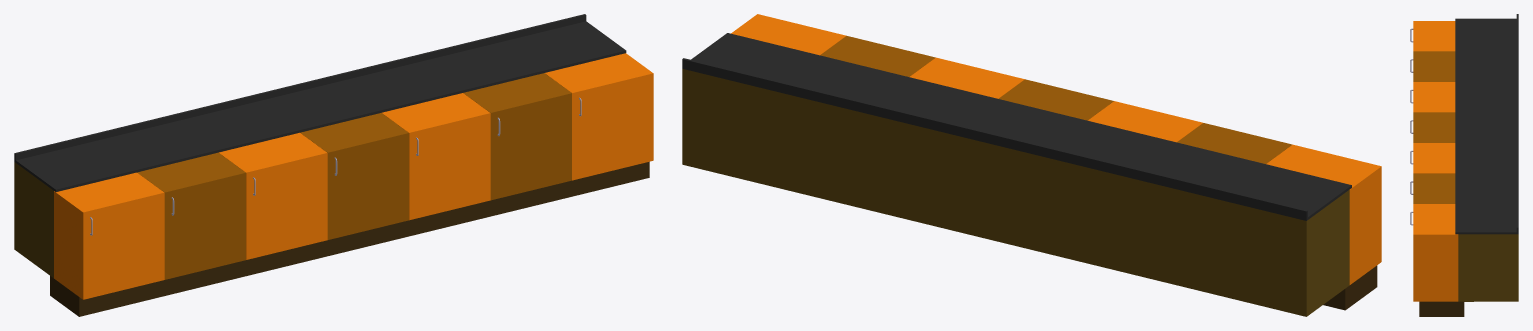
The model's file is meja kecil dapur bawah.fbx.
3 views of the same model, side by side, from view 1: azimuth 30°, elevation 25°; view 2: azimuth 150°, elevation 25°; view 3: azimuth 270°, elevation 25° (orthographic). The views are drawn at different scales.
Parts seen in each view (by area): view 1: Cabinet1_Door.001, Cabinet3_Door.001, Cabinet5_Door, Cabinet7_Door, Cabinet2_Door.001, Cabinet6_Door, Cabinet4_Door, Countertop1, Countertop3, Countertop5, Countertop7, Countertop2 (+10 smaller); view 2: Cabinet1.001, Cabinet4, Cabinet6, Cabinet7, Cabinet5, Cabinet2.001, Cabinet3.001, Cabinet1_Door.001, Countertop1, Countertop7, Countertop4, Countertop6 (+10 smaller); view 3: Cabinet7_Door, Cabinet7, Countertop7, Countertop1, Countertop3, Countertop5, Countertop2, Countertop4, Countertop6, Cabinet2_Door.001, Cabinet4_Door, Cabinet5_Door (+4 smaller).
Boxes of the visible parts, left/top/right/bottom form: Cabinet1_Door.001: left=54, top=172, right=164, bottom=299; Cabinet3_Door.001: left=218, top=132, right=327, bottom=259; Cabinet5_Door: left=381, top=93, right=490, bottom=220; Cabinet7_Door: left=545, top=53, right=653, bottom=180; Cabinet2_Door.001: left=137, top=152, right=245, bottom=279; Cabinet6_Door: left=463, top=73, right=571, bottom=200; Cabinet4_Door: left=300, top=113, right=408, bottom=239; Countertop1: left=14, top=133, right=137, bottom=191; Countertop3: left=178, top=93, right=300, bottom=152; Countertop5: left=341, top=54, right=463, bottom=112; Countertop7: left=504, top=14, right=626, bottom=72; Countertop2: left=96, top=113, right=218, bottom=172; Cabinet1.001: left=1217, top=190, right=1349, bottom=316; Cabinet4: left=949, top=134, right=1038, bottom=251; Cabinet6: left=771, top=90, right=860, bottom=207; Cabinet7: left=682, top=69, right=771, bottom=186; Cabinet5: left=860, top=112, right=949, bottom=229; Cabinet2.001: left=1128, top=177, right=1217, bottom=294; Cabinet3.001: left=1039, top=156, right=1128, bottom=273; Cabinet1_Door.001: left=1266, top=144, right=1381, bottom=284; Countertop1: left=1217, top=163, right=1351, bottom=220; Countertop7: left=682, top=33, right=816, bottom=90; Countertop4: left=949, top=98, right=1083, bottom=155; Countertop6: left=771, top=54, right=905, bottom=111; Cabinet7_Door: left=1413, top=204, right=1458, bottom=301; Cabinet7: left=1458, top=234, right=1518, bottom=301; Countertop7: left=1455, top=197, right=1518, bottom=234; Countertop1: left=1455, top=14, right=1518, bottom=49; Countertop3: left=1455, top=75, right=1518, bottom=110; Countertop5: left=1455, top=136, right=1518, bottom=171; Countertop2: left=1455, top=44, right=1518, bottom=79; Countertop4: left=1455, top=105, right=1518, bottom=140; Countertop6: left=1455, top=166, right=1518, bottom=201; Cabinet2_Door.001: left=1413, top=51, right=1455, bottom=81; Cabinet4_Door: left=1413, top=112, right=1455, bottom=142; Cabinet5_Door: left=1413, top=143, right=1455, bottom=173.
Bounding box in the file's own units: 420 × 81.92 × 90.13.
